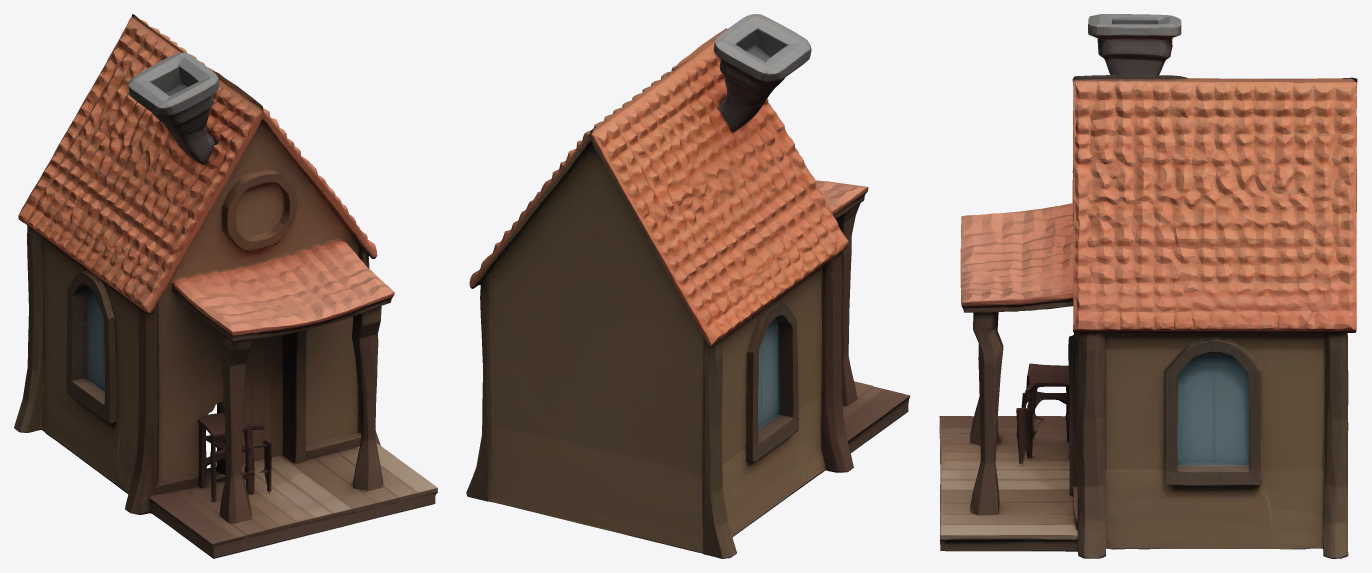
Rendered from voxhammer_t03.glb.
3 views of the same model, side by side, from view 1: azimuth 30°, elevation 25°; view 2: azimuth 150°, elevation 25°; view 3: azimuth 270°, elevation 25° (orthographic). The views are drawn at different scales.
Visible parts, largest first — view 1: geometry_0; view 2: geometry_0; view 3: geometry_0.
Boxes of the visible parts, <box> form: geometry_0: <box>14,14,437,558</box>; geometry_0: <box>466,14,910,558</box>; geometry_0: <box>939,14,1357,558</box>.
Bounding box in the file's own units: 0.725 × 1.13 × 0.9538.
Materials: 1 (1 with a texture image).
